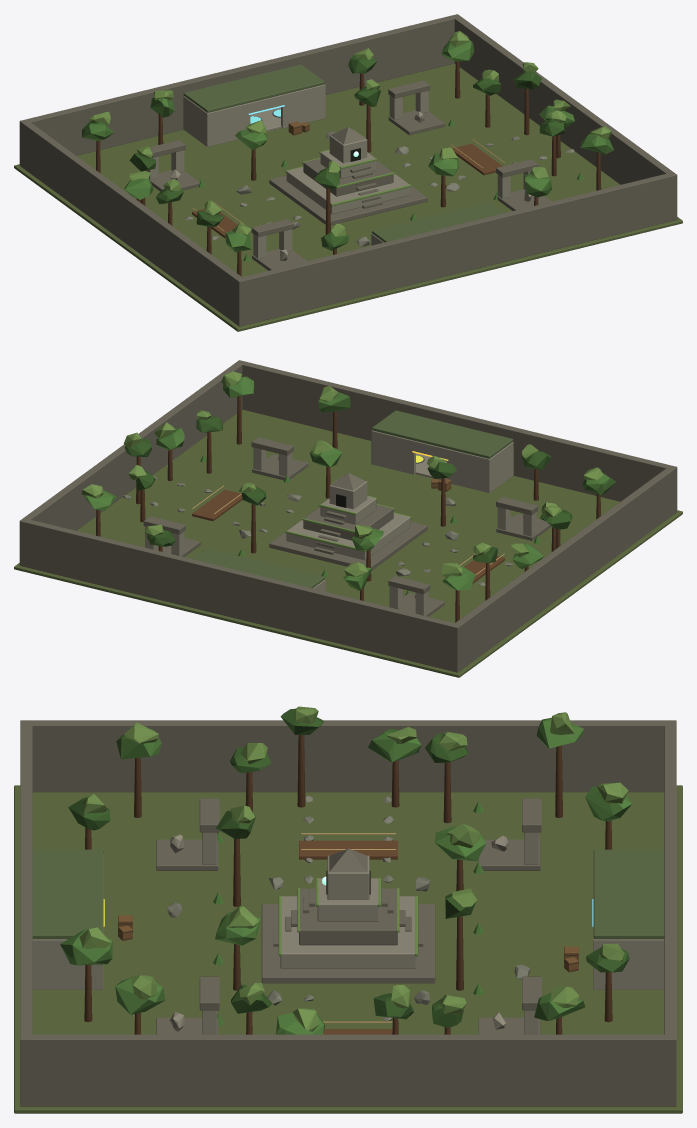
File: jungle_temple.glb
3 renders of one model, top to bottom at view 1: azimuth 30°, elevation 25°; view 2: azimuth 150°, elevation 25°; view 3: azimuth 270°, elevation 25°, orthographic. The views are drawn at different scales.
Visible parts, largest first — view 1: ground, ruin_wall_south, ruin_wall_north, ruin_wall_west, ruin_wall_east, temple, spawn_B_roof, temple_platform, spawn_A_roof, spawn_B_front_R, spawn_B_front_L, spawn_B_side_L (+9 smaller); view 2: ground, ruin_wall_north, ruin_wall_south, ruin_wall_west, ruin_wall_east, temple, spawn_A_roof, spawn_B_roof, temple_platform, spawn_A_front_R, spawn_A_front_L, spawn_A_side_L (+4 smaller); view 3: ground, ruin_wall_east, ruin_wall_west, temple, spawn_B_roof, spawn_A_roof, temple_platform, ruin_wall_south, ruin_wall_north, spawn_B_side_R, spawn_A_side_R, bridge_0 (+25 smaller).
Boxes of the visible parts, <box> form: ground: <box>14,63,682,331</box>; ruin_wall_south: <box>235,173,677,326</box>; ruin_wall_north: <box>19,14,460,167</box>; ruin_wall_west: <box>19,120,245,326</box>; ruin_wall_east: <box>452,14,677,219</box>; temple: <box>286,150,411,214</box>; spawn_B_roof: <box>183,64,324,112</box>; temple_platform: <box>269,175,427,225</box>; spawn_A_roof: <box>372,202,504,242</box>; spawn_B_front_R: <box>281,85,325,128</box>; spawn_B_front_L: <box>205,103,250,146</box>; spawn_B_side_L: <box>183,96,210,146</box>; ground: <box>14,409,682,677</box>; ruin_wall_north: <box>19,519,461,672</box>; ruin_wall_south: <box>236,360,677,513</box>; ruin_wall_west: <box>451,467,677,671</box>; ruin_wall_east: <box>19,360,244,566</box>; temple: <box>286,495,411,560</box>; spawn_A_roof: <box>372,410,513,458</box>; spawn_B_roof: <box>192,548,324,588</box>; temple_platform: <box>269,521,427,569</box>; spawn_A_front_R: <box>371,430,415,474</box>; spawn_A_front_L: <box>446,449,491,492</box>; spawn_A_side_L: <box>486,442,513,492</box>; ground: <box>14,785,682,1113</box>; ruin_wall_east: <box>20,1034,676,1106</box>; ruin_wall_west: <box>20,720,676,792</box>; temple: <box>273,878,423,968</box>; spawn_B_roof: <box>593,849,664,939</box>; spawn_A_roof: <box>32,849,103,939</box>; temple_platform: <box>261,904,435,983</box>; ruin_wall_south: <box>20,720,32,1106</box>; ruin_wall_north: <box>664,720,676,1106</box>; spawn_B_side_R: <box>593,938,664,989</box>; spawn_A_side_R: <box>32,939,103,989</box>; bridge_0: <box>299,840,397,859</box>.
Bounding box in the file's own units: 62 × 10.15 × 54.
